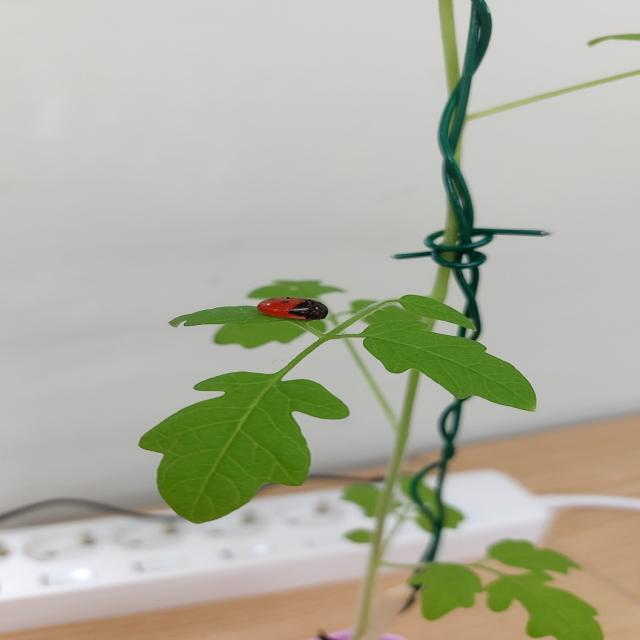bug: (245, 293, 341, 328)
